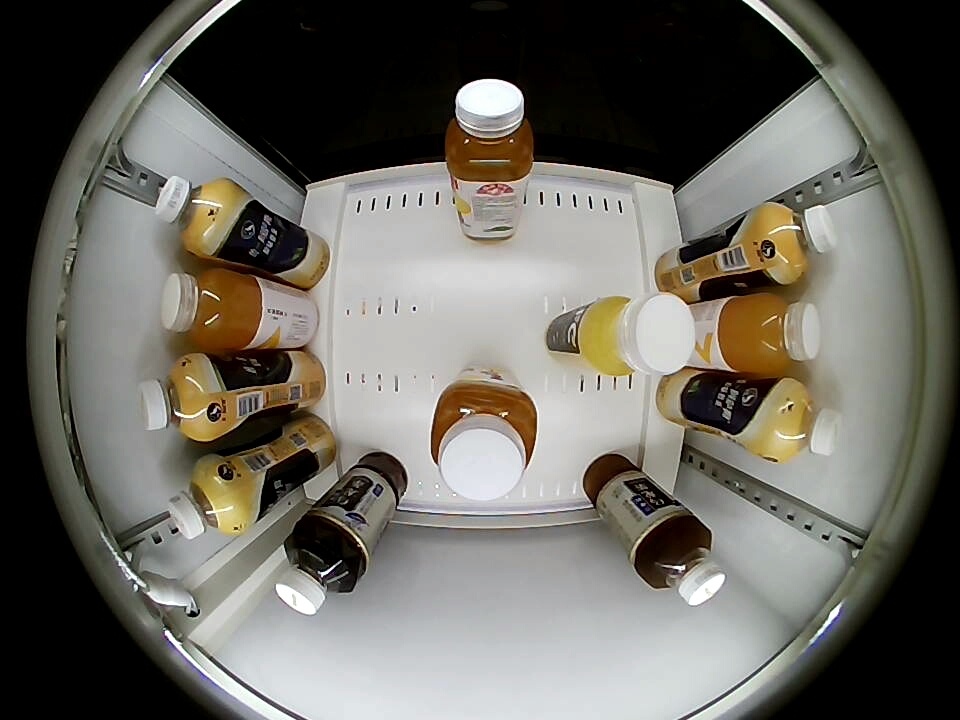asamu: (138, 355, 219, 441), (762, 380, 842, 462), (154, 176, 236, 254), (760, 202, 838, 281), (167, 461, 244, 540)
chapai: (429, 373, 539, 500), (445, 79, 535, 184)
nfc: (586, 293, 695, 377)
weic: (159, 270, 263, 351), (720, 293, 822, 375)
wulongcha: (636, 515, 726, 607), (276, 531, 359, 615)
